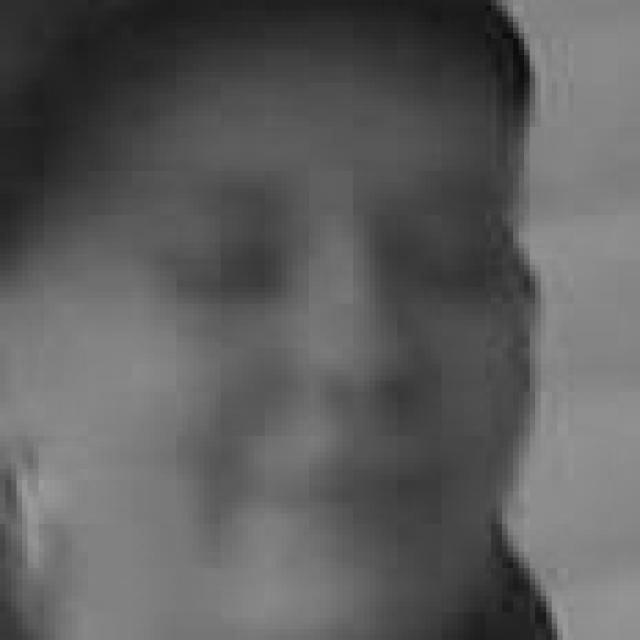real: (7, 12, 532, 640), (122, 208, 512, 320)
